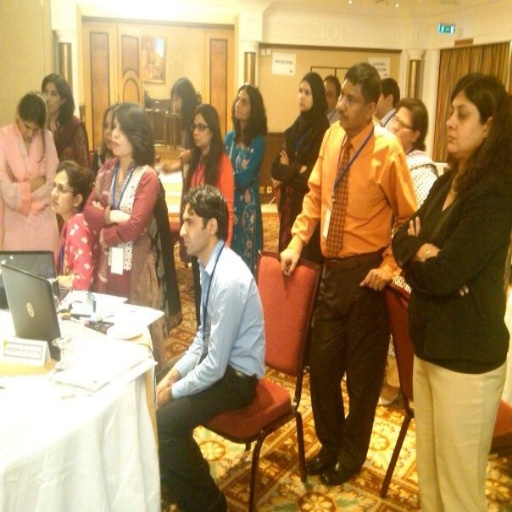hand: (423, 243, 468, 297), (272, 213, 311, 274), (359, 265, 393, 292), (154, 370, 173, 391), (155, 386, 169, 409), (405, 213, 419, 236), (110, 206, 128, 222), (5, 160, 16, 183), (27, 176, 46, 189), (275, 146, 289, 162), (158, 160, 173, 174), (177, 149, 190, 162), (92, 196, 103, 206), (300, 160, 307, 169)
